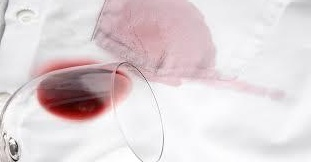wine: (98, 0, 225, 86), (195, 65, 275, 107)
